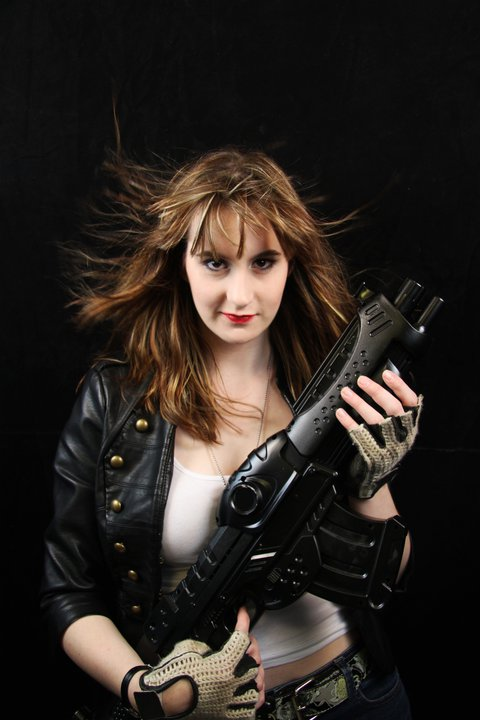human: (37, 146, 449, 720)
